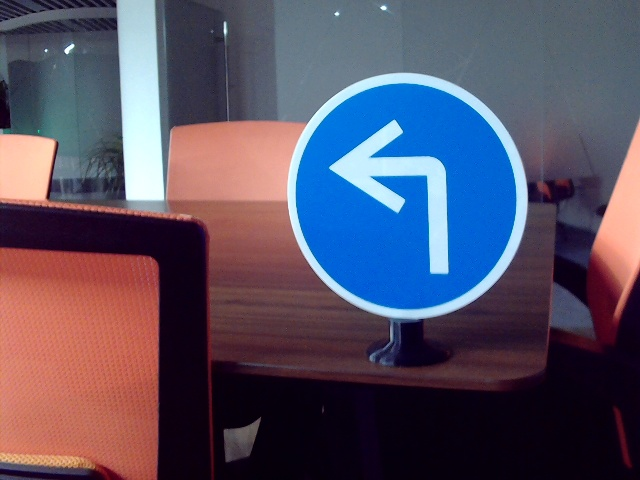turn_left: (327, 113, 460, 277)
